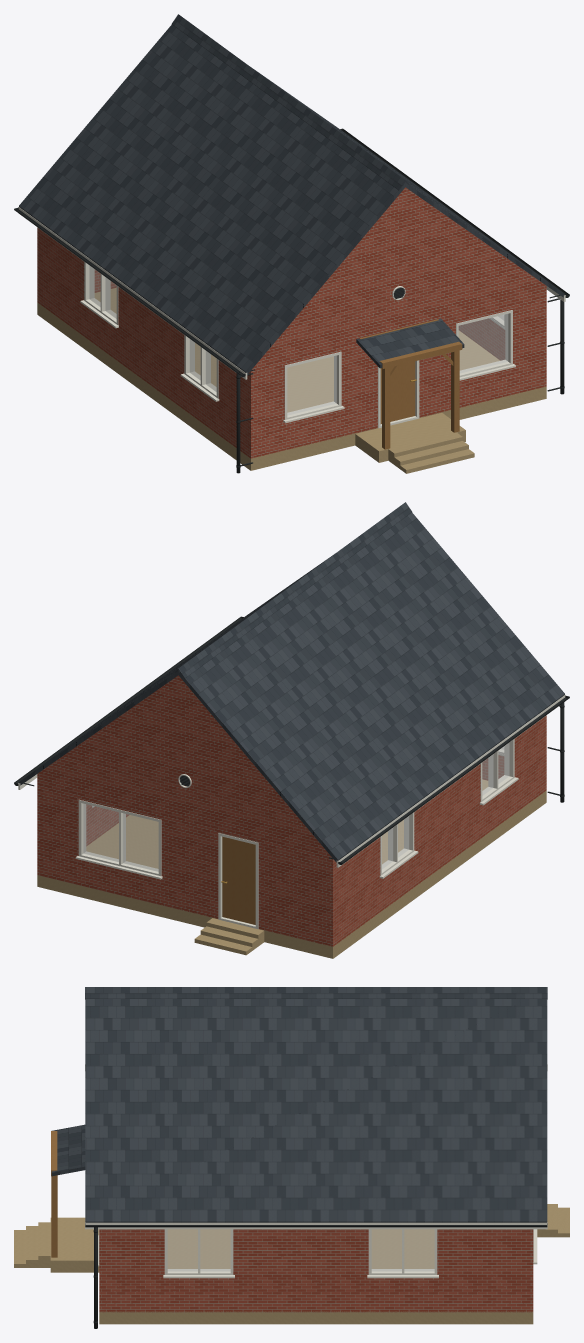
The model's file is cottage.glb.
3 views of the same model, one above another, from view 1: azimuth 30°, elevation 25°; view 2: azimuth 150°, elevation 25°; view 3: azimuth 270°, elevation 25° (orthographic).
Visible parts, largest first — view 1: Main roof closed pitched roof slab, Main house hollow wall shell with actual openings, Grounded continuous foundation and floor, Main roof finite ridge cap, Porch closed pitched canopy, Main house Front left window finite glazing, Main house Front right window finite glazing, Porch grounded landing, Main house Front entrance closed finite door leaf, Main house Front left window finite seated frame, Main house left window 0 finite seated frame, Main house left window 1 finite seated frame (+13 smaller); view 2: Main roof closed pitched roof slab, Main house hollow wall shell with actual openings, Grounded continuous foundation and floor, Main house Rear picture window finite glazing, Main roof finite ridge cap, Main house Rear garden door closed finite door leaf, Main house Rear picture window finite seated frame, Main house left window 0 finite seated frame, Eaves -1 open finite gutter with outlet, Main house left window 1 finite seated frame, Main house Rear garden door finite seated frame, Main roof seated eave fascia -1 (+6 smaller); view 3: Main roof closed pitched roof slab, Main house hollow wall shell with actual openings, Grounded continuous foundation and floor, Main roof finite ridge cap, Main roof seated eave fascia 1, Main house right window 0 finite glazing, Main house right window 1 finite glazing, Porch grounded landing, Eaves 1 open finite gutter with outlet, Porch closed pitched canopy, Main house right window 0 finite seated frame, Main house right window 1 finite seated frame (+4 smaller).
Boxes of the visible parts, x1,y1,x2,y2 form: Main roof closed pitched roof slab: (19, 24, 564, 374); Main house hollow wall shell with actual openings: (37, 187, 546, 458); Grounded continuous foundation and floor: (37, 288, 546, 470); Main roof finite ridge cap: (172, 14, 412, 190); Porch closed pitched canopy: (356, 318, 464, 368); Main house Front left window finite glazing: (287, 355, 336, 415); Main house Front right window finite glazing: (459, 314, 507, 373); Porch grounded landing: (355, 413, 465, 462); Main house Front entrance closed finite door leaf: (380, 361, 415, 423); Main house Front left window finite seated frame: (284, 351, 341, 419); Main house left window 0 finite seated frame: (184, 335, 218, 398); Main house left window 1 finite seated frame: (84, 262, 118, 324); Main roof closed pitched roof slab: (19, 512, 564, 862); Main house hollow wall shell with actual openings: (37, 675, 546, 946); Grounded continuous foundation and floor: (37, 779, 546, 958); Main house Rear picture window finite glazing: (83, 804, 158, 871); Main roof finite ridge cap: (171, 502, 411, 678); Main house Rear garden door closed finite door leaf: (222, 836, 255, 924); Main house Rear picture window finite seated frame: (78, 799, 161, 876); Main house left window 0 finite seated frame: (480, 739, 514, 801); Eaves -1 open finite gutter with outlet: (340, 697, 569, 863); Main house left window 1 finite seated frame: (380, 812, 414, 875); Main house Rear garden door finite seated frame: (218, 833, 258, 929); Main roof seated eave fascia -1: (336, 694, 565, 867); Main roof closed pitched roof slab: (85, 999, 547, 1222); Main house hollow wall shell with actual openings: (99, 1229, 533, 1312); Grounded continuous foundation and floor: (99, 1229, 533, 1324); Main roof finite ridge cap: (85, 987, 547, 999); Main roof seated eave fascia 1: (85, 1222, 547, 1229); Main house right window 0 finite glazing: (168, 1229, 230, 1271); Main house right window 1 finite glazing: (372, 1229, 434, 1271); Porch grounded landing: (50, 1217, 99, 1272); Eaves 1 open finite gutter with outlet: (85, 1225, 546, 1227); Porch closed pitched canopy: (51, 1124, 85, 1176); Main house right window 0 finite seated frame: (164, 1229, 233, 1274); Main house right window 1 finite seated frame: (368, 1229, 437, 1274).
Size of the model in its own units: 8.9 by 6.71 by 12.81.
Materials: 8 (7 with a texture image).
